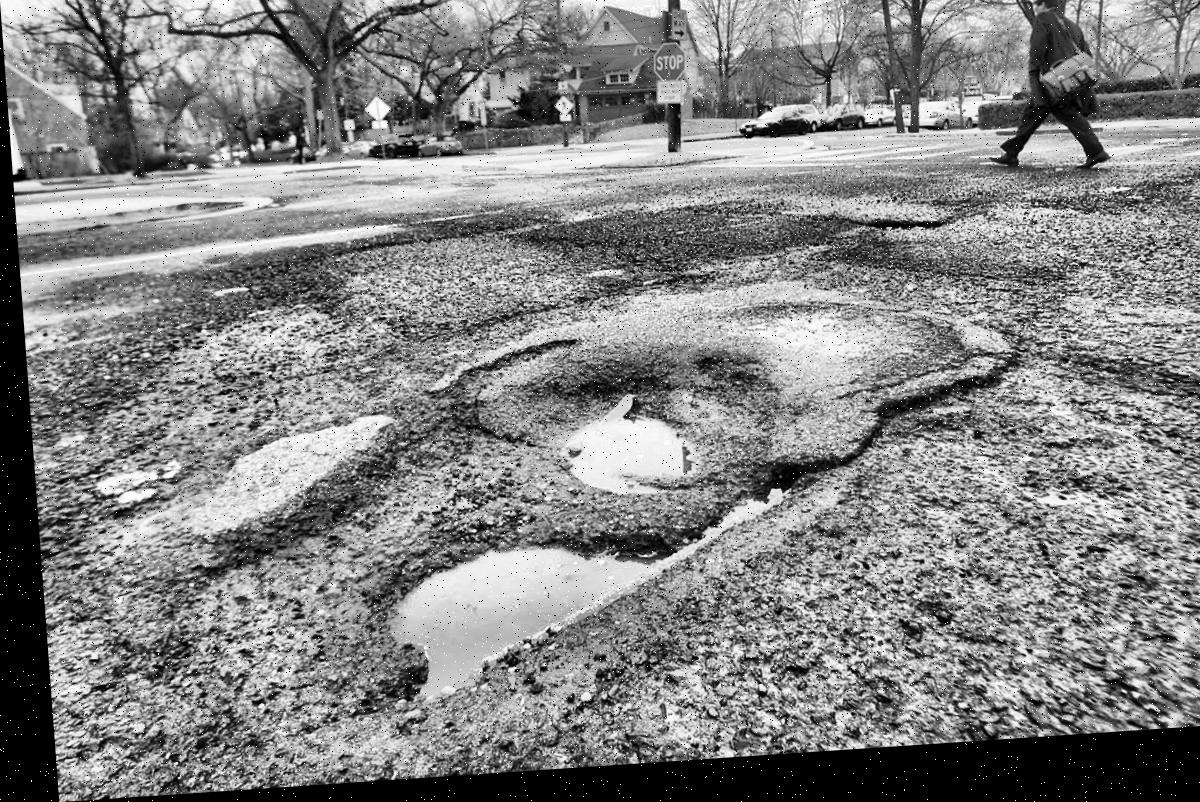pothole: (359, 536, 642, 703), (550, 412, 695, 508), (869, 224, 943, 251)
